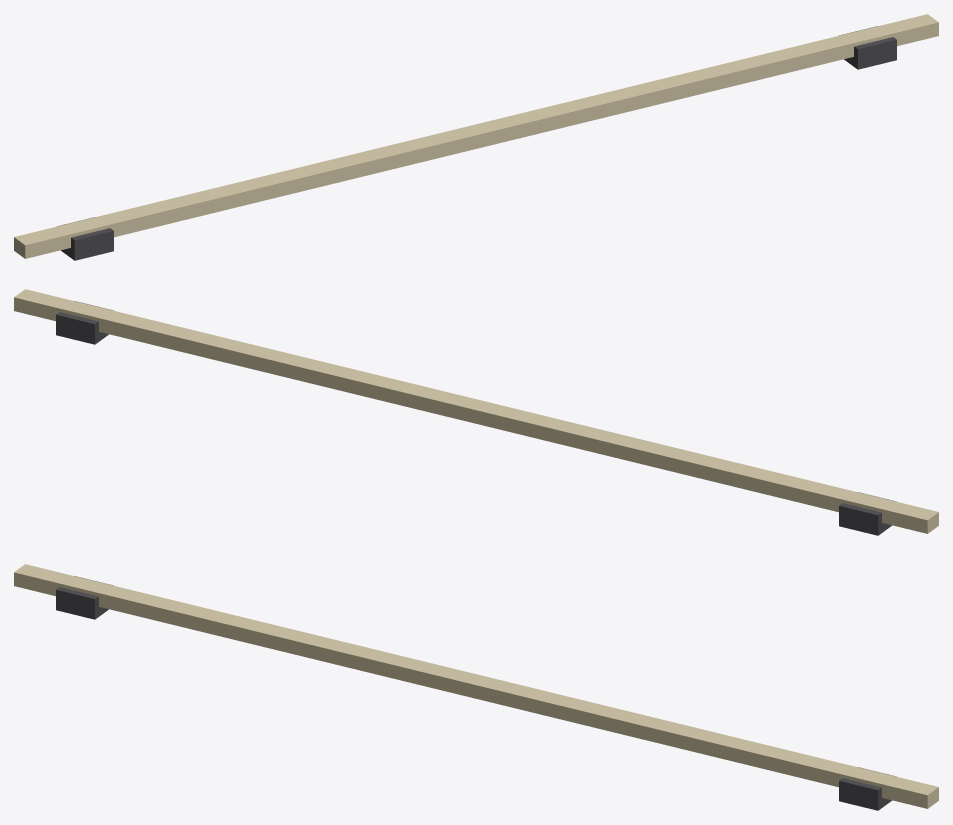
File: ilu_fita_cama.glb
3 views of the same model, one above another, from view 1: azimuth 30°, elevation 25°; view 2: azimuth 150°, elevation 25°; view 3: azimuth 330°, elevation 25° (orthographic).
Visible parts, largest first — view 1: ILU_Fita_Cama_v01; view 2: ILU_Fita_Cama_v01; view 3: ILU_Fita_Cama_v01.
Boxes of the visible parts, x1,y1,x2,y2 form: ILU_Fita_Cama_v01: (14, 14, 938, 260); ILU_Fita_Cama_v01: (14, 289, 938, 535); ILU_Fita_Cama_v01: (14, 564, 938, 810).
Size of the model in its own units: 1.4 by 0.035 by 0.05.
